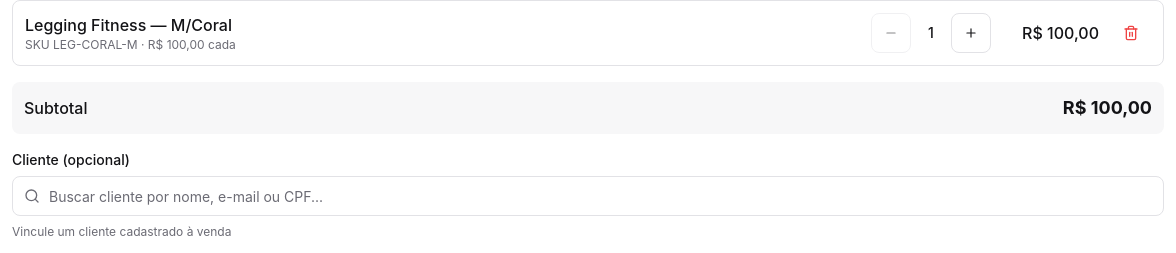
it: PdvCarrinho › aumenta a quantidade ao clicar em +, respeitando o estoque disponível
Click the button named "aumentar quantidade": click(971, 33) [951,13,991,53]
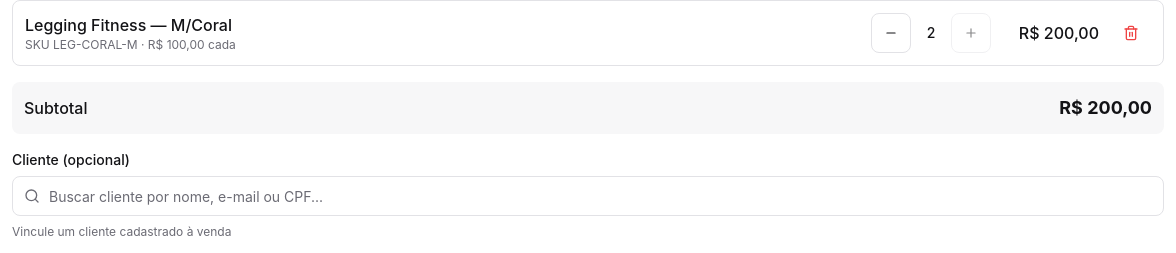
Now the button named "aumentar quantidade" is disabled, box [951,13,991,53]
